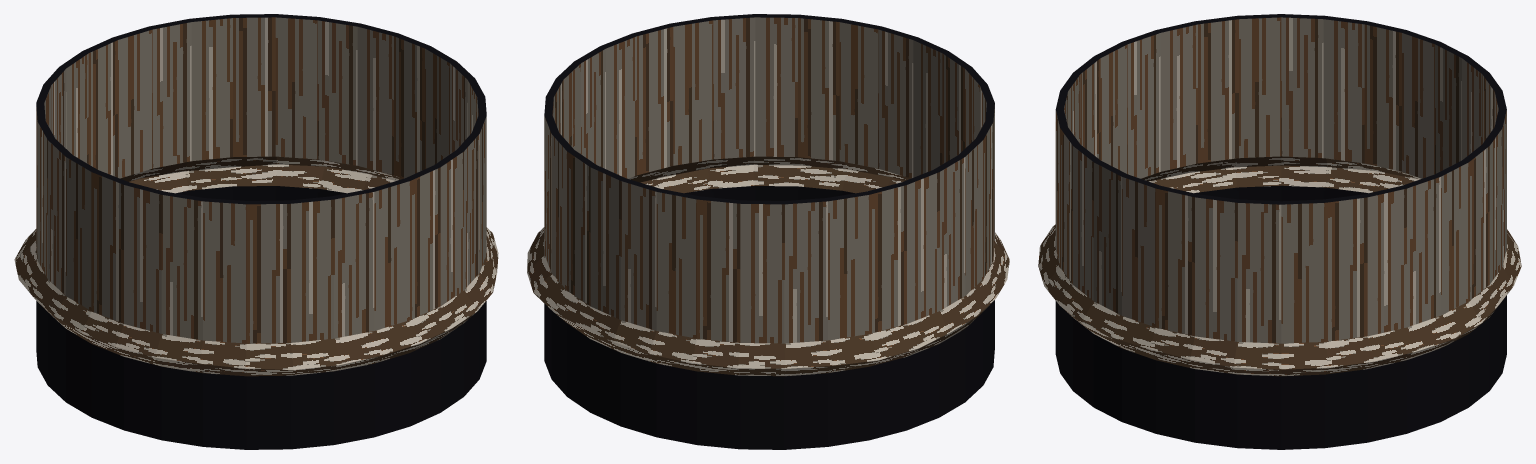
The model's file is TOR-08_Pie_pasante.gltf.
3 views of the same model, side by side, from view 1: azimuth 30°, elevation 25°; view 2: azimuth 150°, elevation 25°; view 3: azimuth 270°, elevation 25° (orthographic).
Visible parts, largest first — view 1: TOR-08_Pie_pasante-col; view 2: TOR-08_Pie_pasante-col; view 3: TOR-08_Pie_pasante-col.
Part boxes in pixels (x1,y1,x2,y2): TOR-08_Pie_pasante-col: (14, 14, 498, 449); TOR-08_Pie_pasante-col: (527, 14, 1009, 449); TOR-08_Pie_pasante-col: (1038, 14, 1521, 449).
Size of the model in its own units: 5.36 by 3 by 5.36.
1 material, 1 textured.
